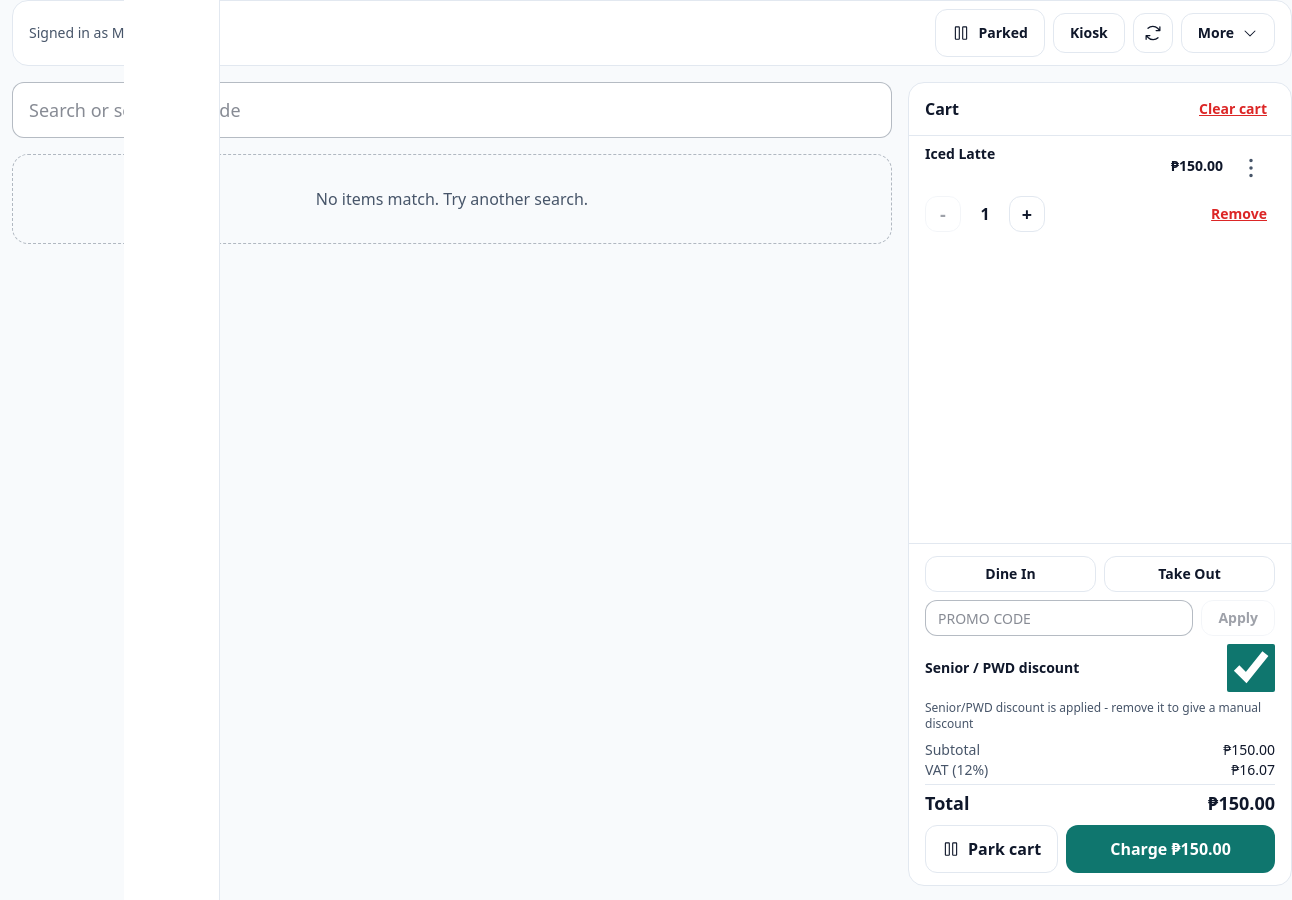
Scenario: Senior/PWD exclusivity › disables manual discounts with an explanation while Senior/PWD is applied
Click the button named "Actions for Iced Latte" at (1251, 168), box [1227,144,1275,192]
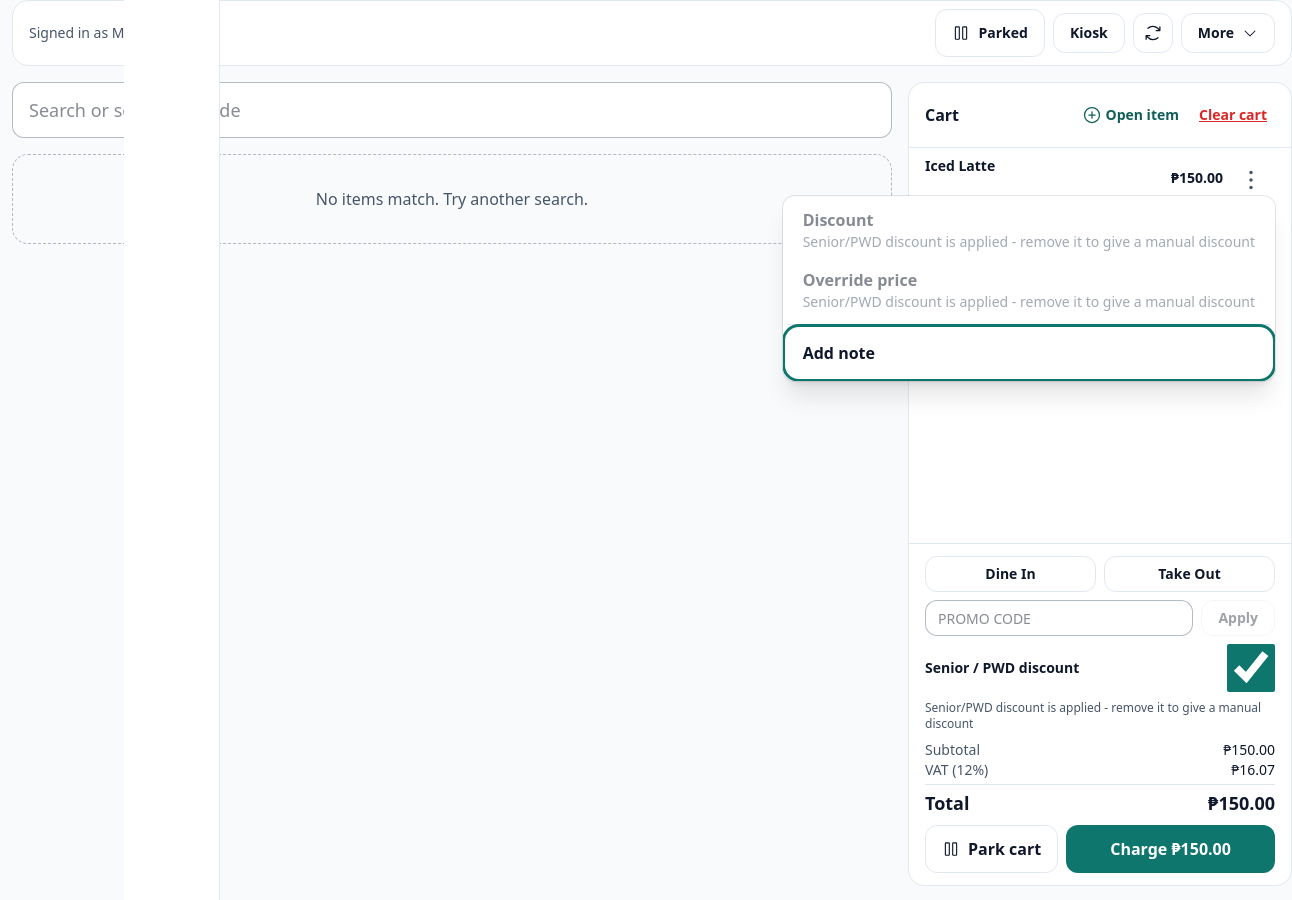
Expected: the text "Senior/PWD discount is applied - remove it to give a manual discount" below "Senior / PWD discount" is shown, [925,699,1261,732]
Expected: the menu item "Discount" is disabled, [787,200,1271,260]
